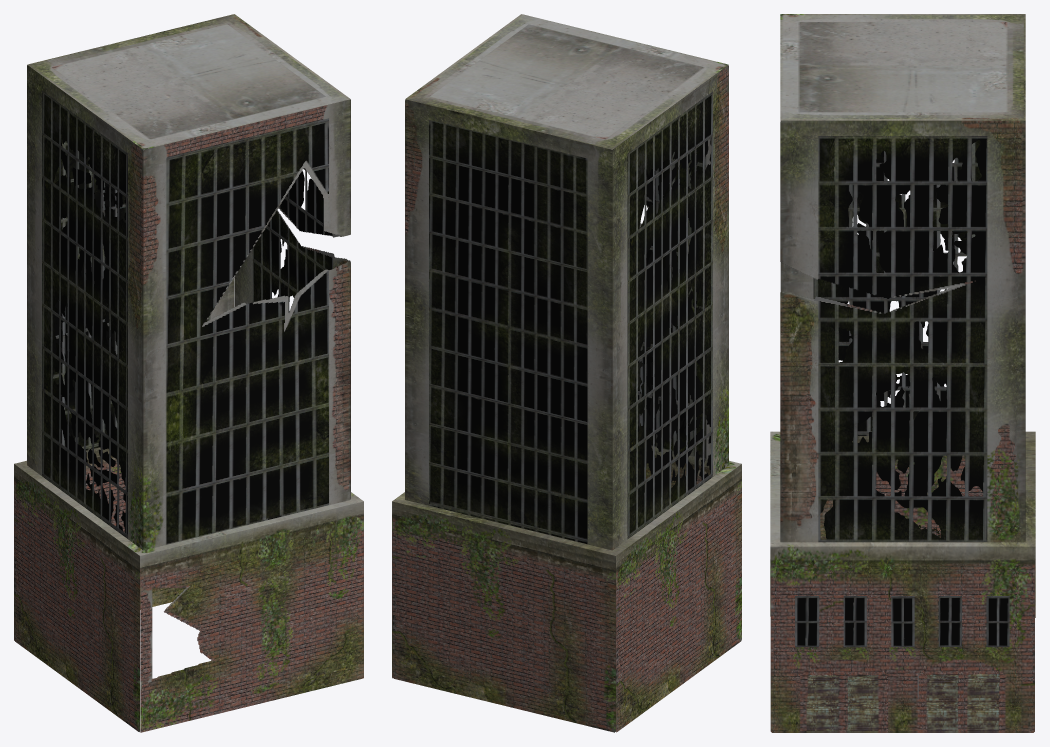
Rendered from Scraper_LOD.fbx.
3 views of the same model, side by side, from view 1: azimuth 30°, elevation 25°; view 2: azimuth 150°, elevation 25°; view 3: azimuth 270°, elevation 25° (orthographic). The views are drawn at different scales.
Visible parts, largest first — view 1: Cube.001; view 2: Cube.001; view 3: Cube.001.
Boxes of the visible parts, left/top/right/bottom form: Cube.001: left=14, top=14, right=363, bottom=732; Cube.001: left=392, top=14, right=741, bottom=732; Cube.001: left=770, top=14, right=1035, bottom=732.
Size of the model in its own units: 1405 by 3463 by 1369.
1 material, 1 textured.
